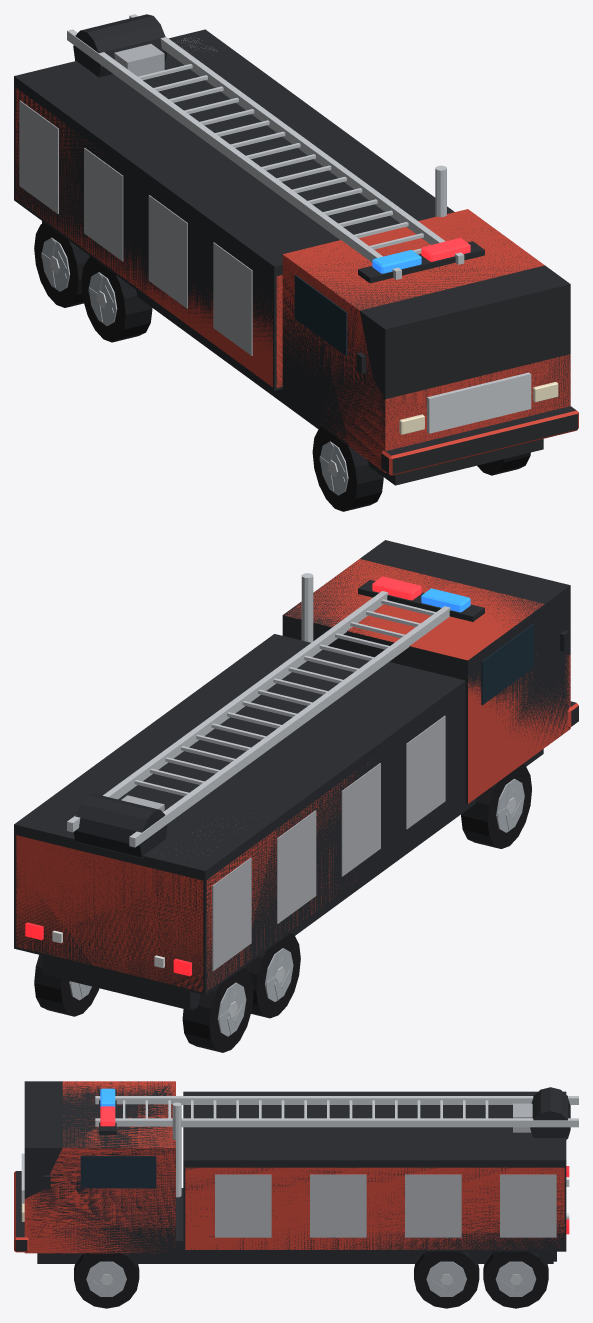
The model's file is VEH_FireTruck.fbx.
The picture shows the model from 3 angles, top to bottom: view 1: azimuth 30°, elevation 25°; view 2: azimuth 150°, elevation 25°; view 3: azimuth 270°, elevation 25°; orthographic projection. The views are drawn at different scales.
Parts seen in each view (by area): view 1: VEH_FireTruck__BODY, VEH_FireTruck__COL_Box, VEH_FireTruck__COL_Cab, VEH_FireTruck__LADDER, VEH_FireTruck__WHEEL_RR, VEH_FireTruck__WHEEL_FR, VEH_FireTruck__WHEEL_RR2, VEH_FireTruck__COL_Frame, VEH_FireTruck__LIGHTS, VEH_FireTruck__SIREN_B, VEH_FireTruck__SIREN_R, VEH_FireTruck__WHEEL_FL; view 2: VEH_FireTruck__COL_Box, VEH_FireTruck__BODY, VEH_FireTruck__COL_Cab, VEH_FireTruck__LADDER, VEH_FireTruck__WHEEL_RR2, VEH_FireTruck__WHEEL_FR, VEH_FireTruck__WHEEL_RR, VEH_FireTruck__WHEEL_RL2, VEH_FireTruck__COL_Frame, VEH_FireTruck__EXHAUST, VEH_FireTruck__LIGHTS, VEH_FireTruck__SIREN_B (+1 smaller); view 3: VEH_FireTruck__BODY, VEH_FireTruck__COL_Box, VEH_FireTruck__COL_Cab, VEH_FireTruck__LADDER, VEH_FireTruck__WHEEL_RL2, VEH_FireTruck__WHEEL_RL, VEH_FireTruck__WHEEL_FL, VEH_FireTruck__COL_Frame, VEH_FireTruck__EXHAUST, VEH_FireTruck__SIREN_R.
Boxes of the visible parts, box(x1,y1,x2,y2) form: VEH_FireTruck__BODY: box(15, 14, 578, 477); VEH_FireTruck__COL_Box: box(14, 29, 454, 390); VEH_FireTruck__COL_Cab: box(282, 214, 570, 472); VEH_FireTruck__LADDER: box(67, 14, 464, 279); VEH_FireTruck__WHEEL_RR: box(81, 257, 152, 342); VEH_FireTruck__WHEEL_FR: box(312, 427, 383, 511); VEH_FireTruck__WHEEL_RR2: box(34, 222, 89, 307); VEH_FireTruck__COL_Frame: box(89, 255, 543, 485); VEH_FireTruck__LIGHTS: box(399, 382, 558, 434); VEH_FireTruck__SIREN_B: box(372, 250, 421, 273); VEH_FireTruck__SIREN_R: box(421, 238, 470, 261); VEH_FireTruck__WHEEL_FL: box(477, 452, 530, 475); VEH_FireTruck__COL_Box: box(14, 634, 465, 995); VEH_FireTruck__BODY: box(16, 559, 578, 1009); VEH_FireTruck__COL_Cab: box(282, 540, 570, 803); VEH_FireTruck__LADDER: box(67, 591, 450, 847); VEH_FireTruck__WHEEL_RR2: box(182, 967, 253, 1052); VEH_FireTruck__WHEEL_FR: box(461, 764, 531, 848); VEH_FireTruck__WHEEL_RR: box(245, 933, 300, 1018); VEH_FireTruck__WHEEL_RL2: box(34, 955, 99, 1016); VEH_FireTruck__COL_Frame: box(44, 749, 543, 1010); VEH_FireTruck__EXHAUST: box(301, 573, 313, 642); VEH_FireTruck__LIGHTS: box(25, 922, 191, 976); VEH_FireTruck__SIREN_B: box(421, 588, 470, 612); VEH_FireTruck__BODY: box(14, 1081, 570, 1261); VEH_FireTruck__COL_Box: box(183, 1091, 566, 1251); VEH_FireTruck__COL_Cab: box(24, 1081, 175, 1253); VEH_FireTruck__LADDER: box(95, 1096, 578, 1132); VEH_FireTruck__WHEEL_RL2: box(483, 1251, 548, 1308); VEH_FireTruck__WHEEL_RL: box(414, 1251, 479, 1308); VEH_FireTruck__WHEEL_FL: box(74, 1253, 139, 1308); VEH_FireTruck__COL_Frame: box(37, 1188, 553, 1263); VEH_FireTruck__EXHAUST: box(172, 1102, 181, 1197); VEH_FireTruck__SIREN_R: box(100, 1106, 115, 1126).
Bounding box in the file's own units: 2.8 × 3.45 × 8.97.
